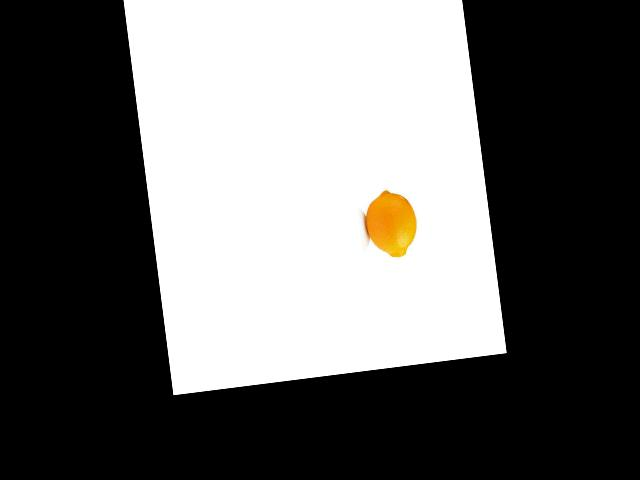lemon: (358, 185, 422, 264)
